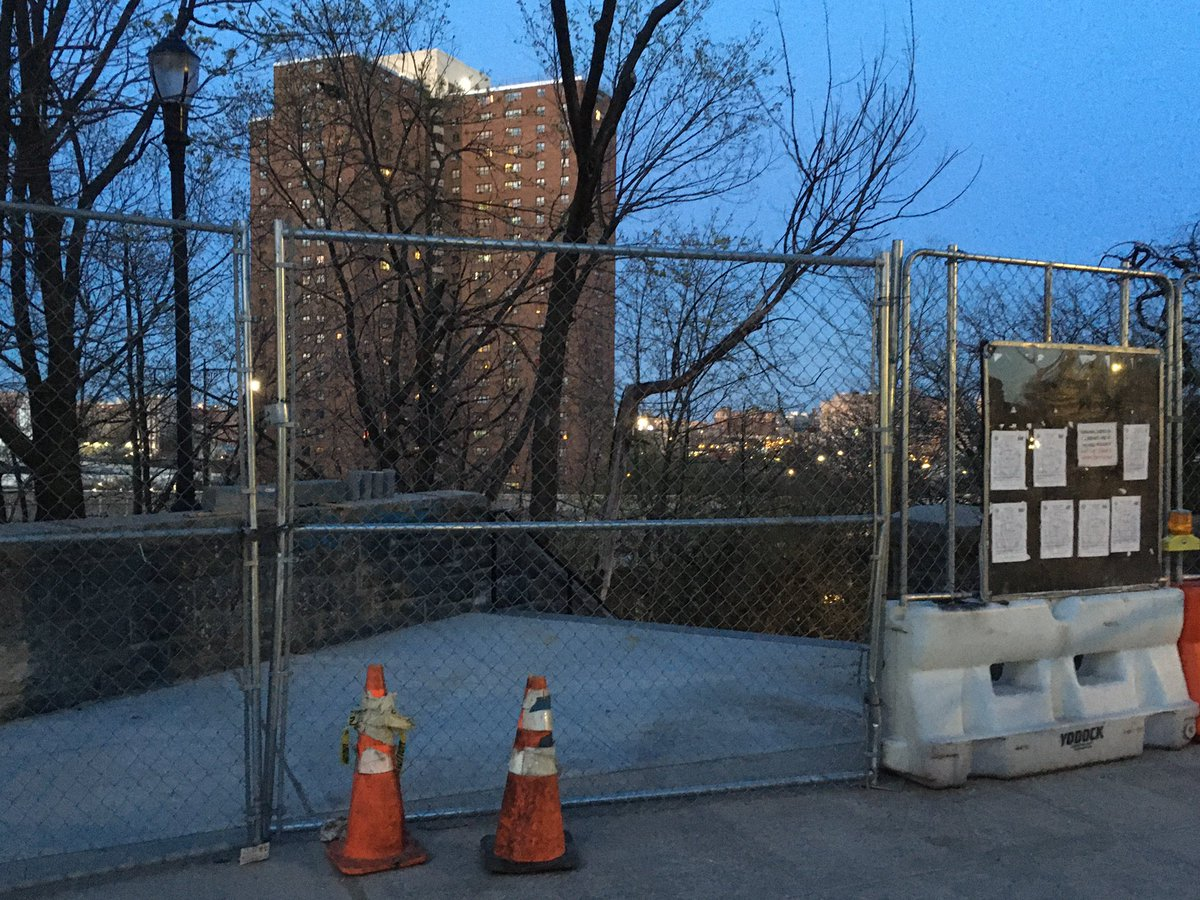building: (239, 41, 612, 492)
light pole: (129, 21, 229, 510)
sky: (672, 1, 1200, 383)
traffic cone: (309, 652, 438, 887), (465, 650, 594, 885)
tree: (568, 89, 950, 561), (480, 1, 788, 518), (264, 36, 565, 488), (1, 11, 266, 504)
